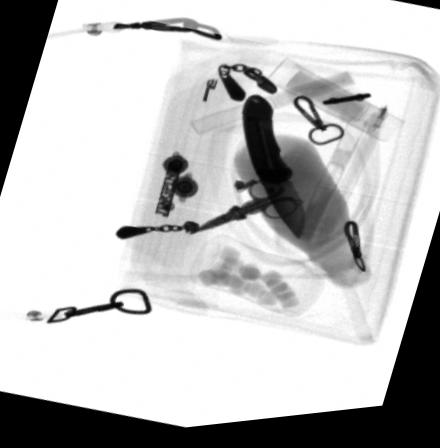Knife: (240, 97, 304, 246)
Scissors: (189, 181, 299, 234)
